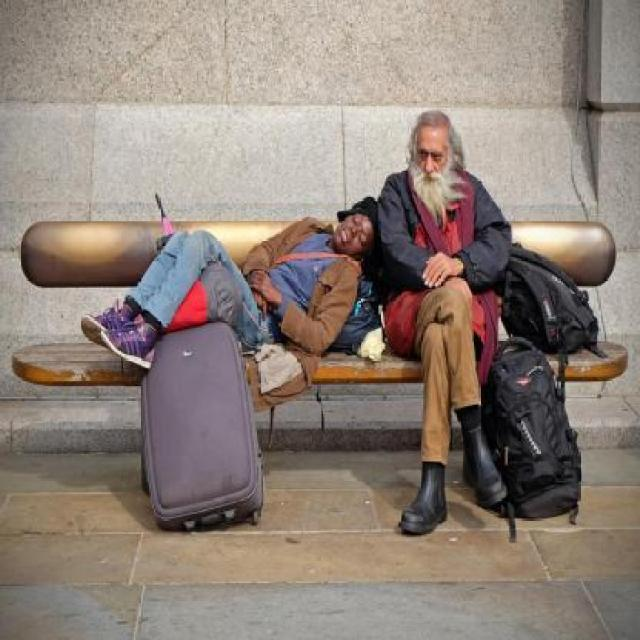backpack: (478, 334, 584, 523), (496, 240, 602, 355)
